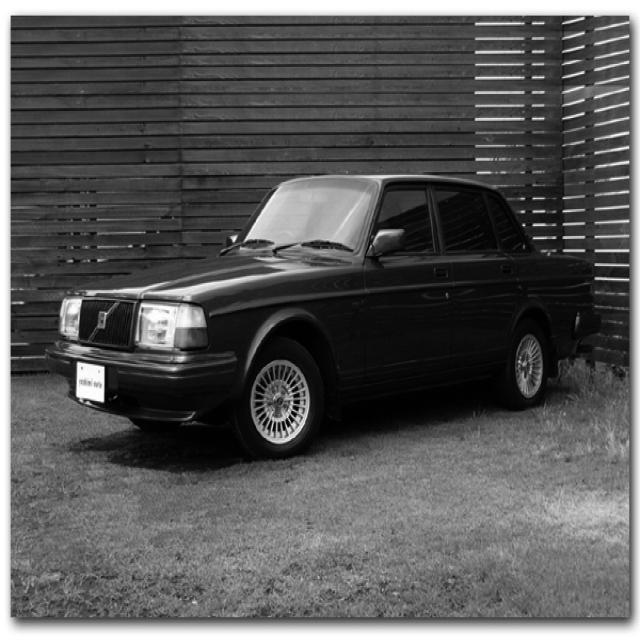car: (44, 172, 600, 459)
